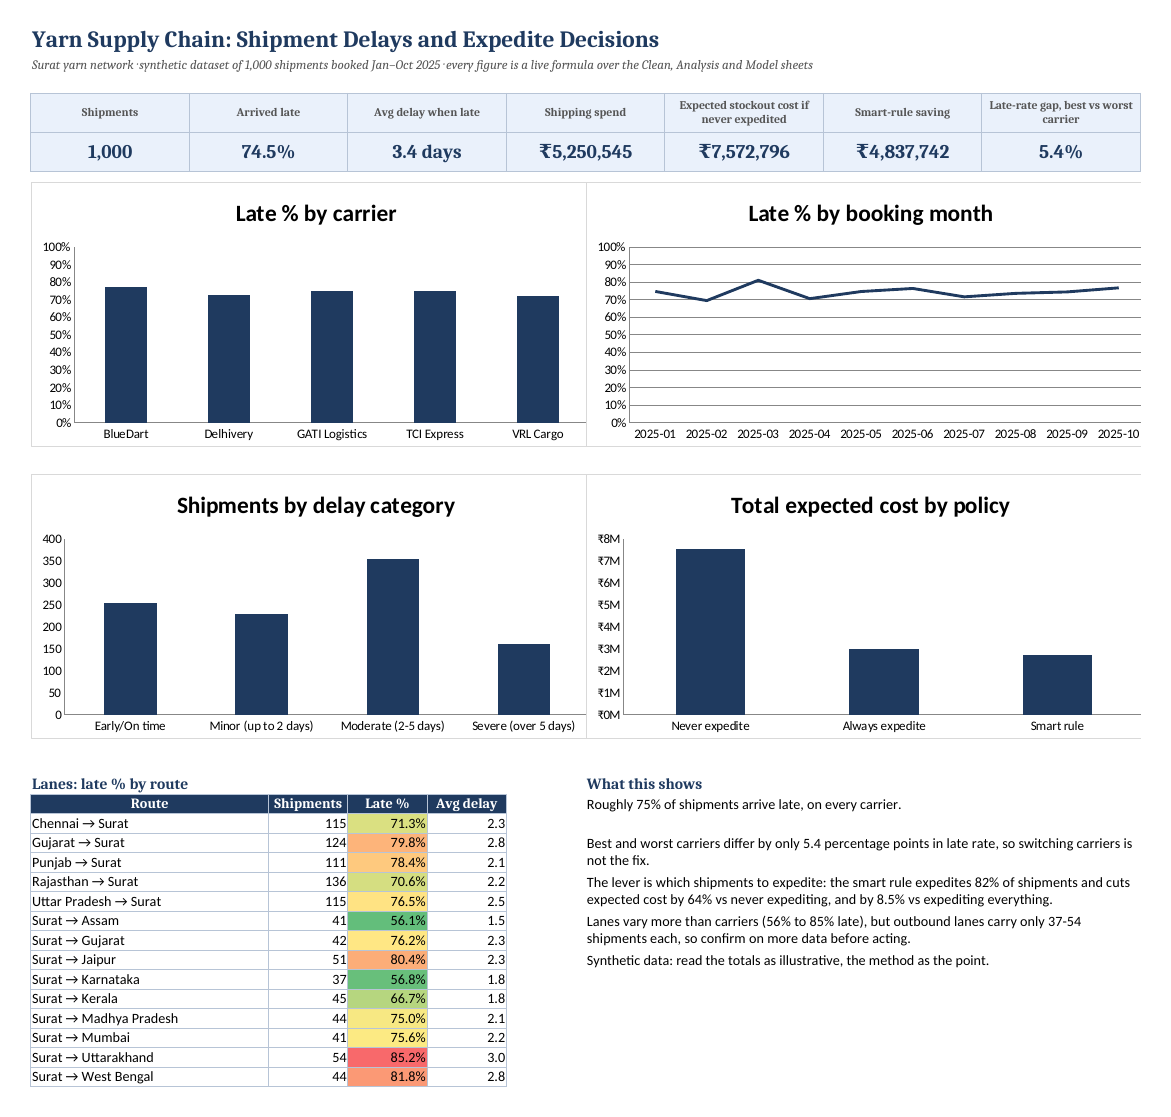

This screenshot's page, from the dashboard's own definition file:
{"tool":"powerbi","page":{"name":"Page 1","canvas":[1920,1080],"ordinal":0},"visuals":[{"type":"cardVisual","fields":{"Data":["Shipments.Number of Shipments","Shipments.Late %","Shipments.Avg Delay When Late (days)","Shipments.Total Shipping Spend","Shipments.Stockout Exposure if Never Expedited","Shipments.Smart Rule Saving","Shipments.Carrier Late-Rate Gap"]},"box":[30,100,1860,140],"z":0},{"type":"clusteredBarChart","fields":{"Category":["Shipments.carrier"],"Y":["Shipments.Late %"]},"box":[30,260,600,380],"z":1},{"type":"lineChart","fields":{"Category":["Shipments.Booking Month"],"Y":["Shipments.Late %"]},"box":[660,260,600,380],"z":2},{"type":"clusteredColumnChart","fields":{"Category":["Shipments.delay_category"],"Y":["Shipments.Total Shipments"]},"box":[1290,260,600,380],"z":3},{"type":"clusteredColumnChart","title":"Expected cost by expedite policy","fields":{"Y":["Shipments.Never Expedite Cost","Shipments.Always Expedite Cost","Shipments.Smart Rule Cost"]},"box":[30,660,600,400],"z":4},{"type":"tableEx","title":"Lanes: late % by route","fields":{"Values":["Shipments.route","Shipments.Total Shipments","Shipments.Late %","Shipments.Avg Delay (days)"]},"box":[660,660,600,400],"z":5},{"type":"textbox","box":[1290,660,600,400],"z":6},{"type":"textbox","box":[30,10,1300,80],"z":7},{"type":"slicer","fields":{"Values":["Shipments.material_type"]},"box":[1360,10,260,80],"z":8},{"type":"slicer","fields":{"Values":["Shipments.shipment_type"]},"box":[1640,10,250,80],"z":9}]}

Visuals, with their boxes on the page's 1920x1080 design canvas (x1, y1, x2, y2). These are canvas units, not pixel positions in the 1171x1117 screenshot, which may show the page scaled, cropped or inside an application window:
cardVisual - Shipments.Number of Shipments x Shipments.Late %: BBox(30, 100, 1890, 240)
clusteredBarChart - Shipments.carrier x Shipments.Late %: BBox(30, 260, 630, 640)
lineChart - Shipments.Booking Month x Shipments.Late %: BBox(660, 260, 1260, 640)
clusteredColumnChart - Shipments.delay_category x Shipments.Total Shipments: BBox(1290, 260, 1890, 640)
"Expected cost by expedite policy" clusteredColumnChart: BBox(30, 660, 630, 1060)
"Lanes: late % by route" tableEx: BBox(660, 660, 1260, 1060)
textbox: BBox(1290, 660, 1890, 1060)
textbox: BBox(30, 10, 1330, 90)
slicer - Shipments.material_type: BBox(1360, 10, 1620, 90)
slicer - Shipments.shipment_type: BBox(1640, 10, 1890, 90)
